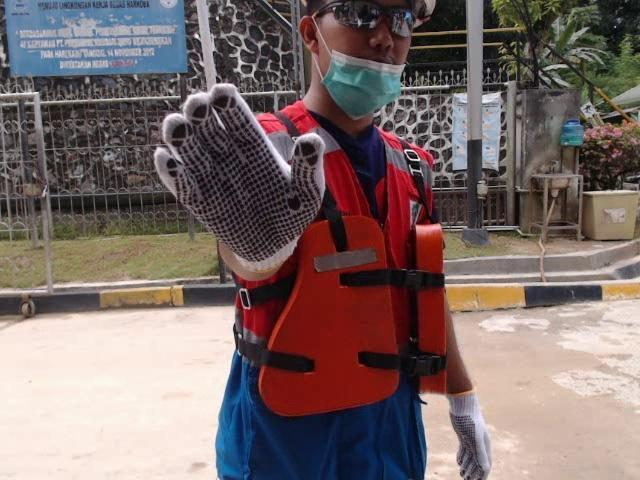vest: (259, 212, 450, 418)
